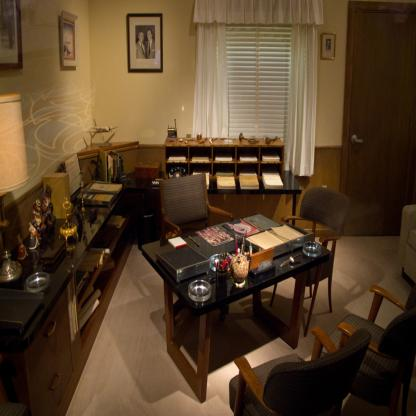book: (57, 155, 84, 195), (196, 228, 235, 250), (226, 218, 260, 238), (76, 192, 112, 208), (242, 212, 279, 227), (107, 155, 130, 177), (262, 172, 287, 192), (240, 170, 259, 190), (86, 182, 121, 192), (167, 236, 188, 252), (216, 176, 236, 191), (262, 152, 281, 164), (170, 154, 189, 164), (193, 158, 214, 166), (239, 155, 257, 162), (215, 157, 232, 162)
